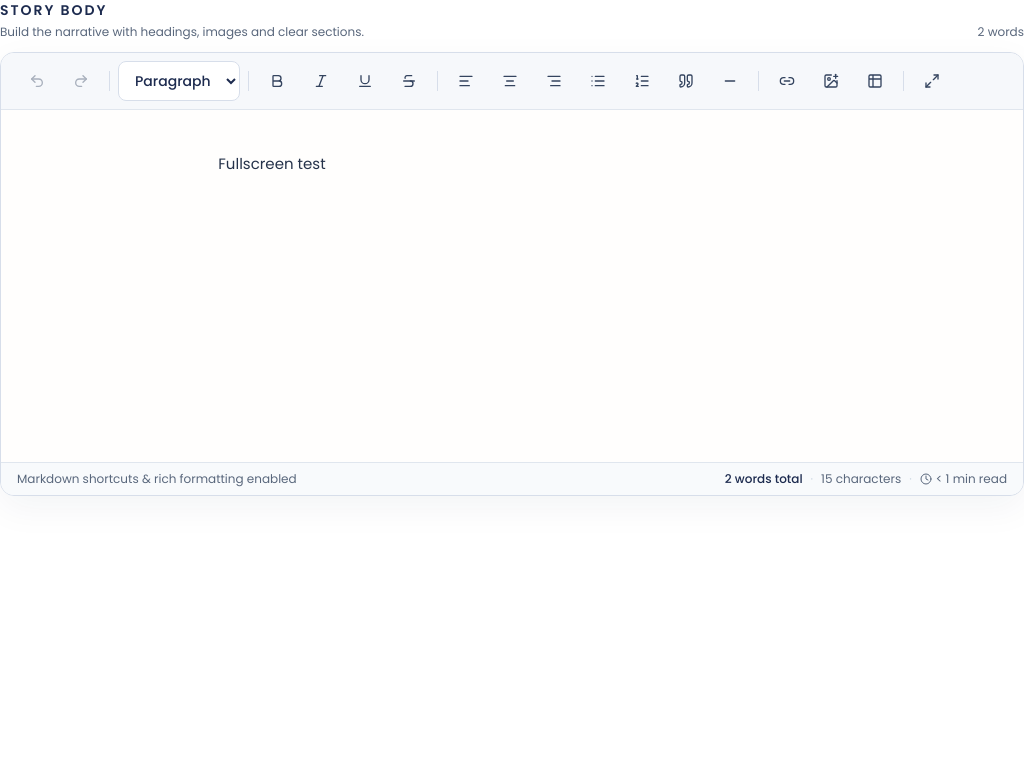
Test case: StoryRichTextEditor - Empirical Stress Verification (Milestone 1, Iteration 2) › Defect 2: Escape key trap when Link or Image dialog is dismissed in fullscreen mode › enters fullscreen mode and locks body scroll
Step 1. Click the button named "Fullscreen mode" → (932, 81), box [912,61,952,101]
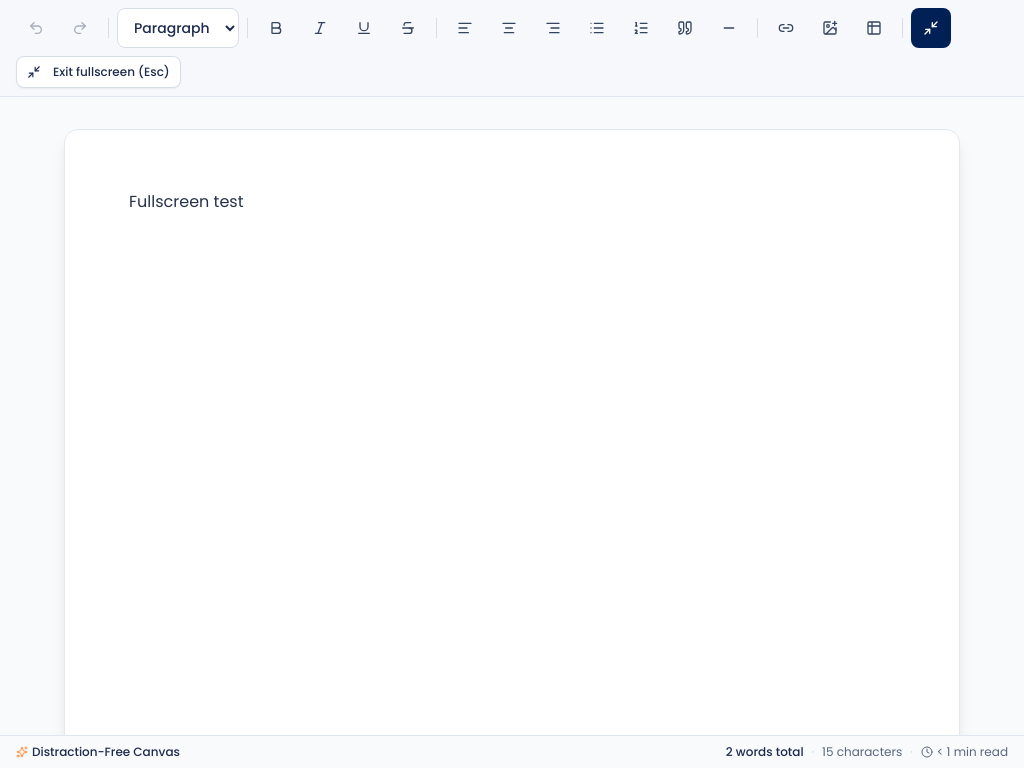
Expected: the text "Distraction-Free Canvas" is shown, [16,744,180,760]
